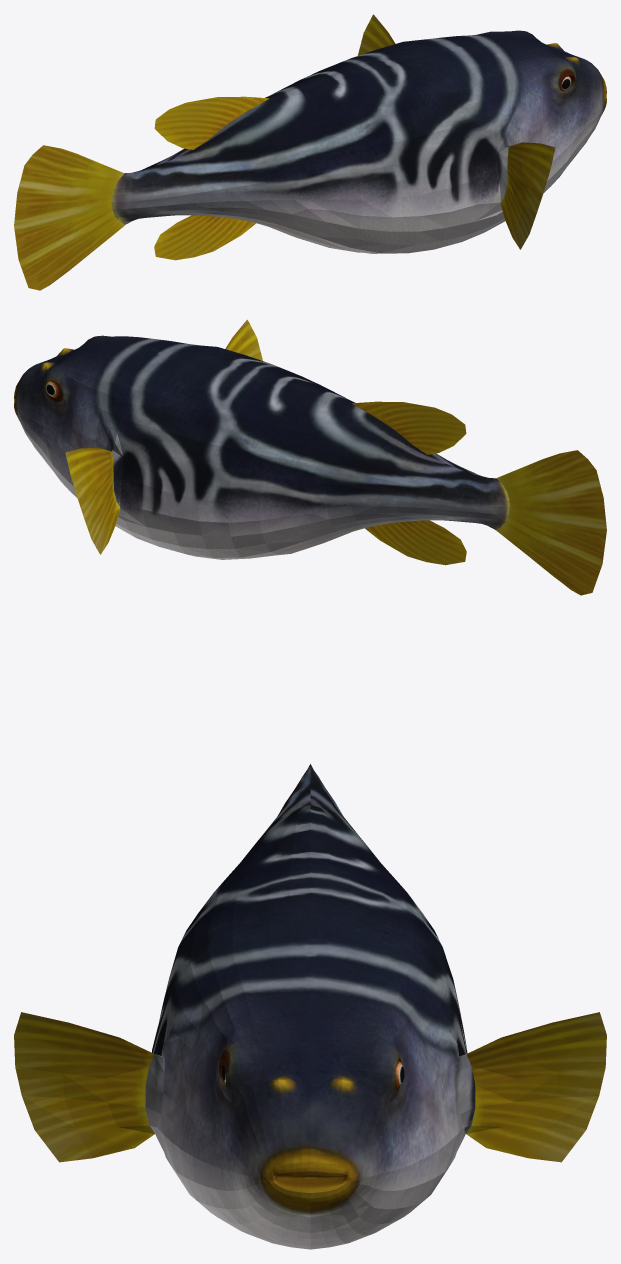
The model's file is pufferfish.glb.
3 views of the same model, one above another, from view 1: azimuth 30°, elevation 25°; view 2: azimuth 150°, elevation 25°; view 3: azimuth 270°, elevation 25° (orthographic). The views are drawn at different scales.
Visible parts, largest first — view 1: pufferfish; view 2: pufferfish; view 3: pufferfish.
Boxes of the visible parts, x1,y1,x2,y2 form: pufferfish: [14, 14, 606, 290]; pufferfish: [14, 319, 606, 595]; pufferfish: [14, 764, 606, 1249].
Size of the model in its own units: 1 by 0.3103 by 0.5497.
Materials: 1 (1 with a texture image).
